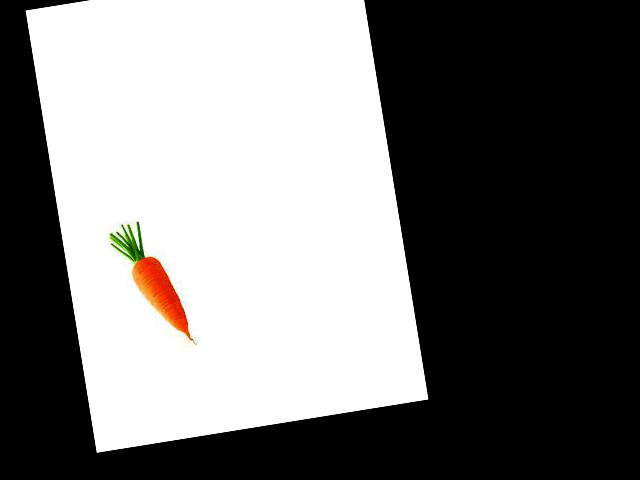carrot: (128, 247, 196, 346)
